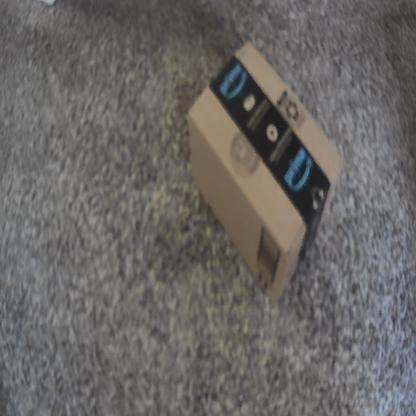package: (183, 31, 349, 324)
